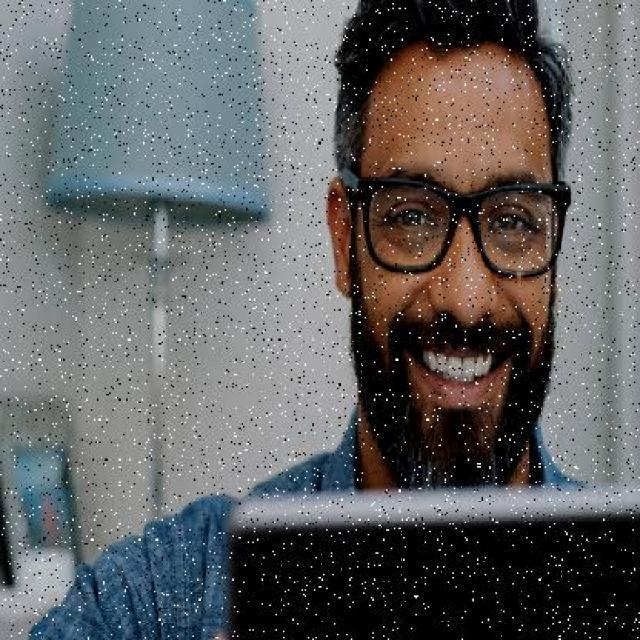glasses: (340, 165, 578, 284)
